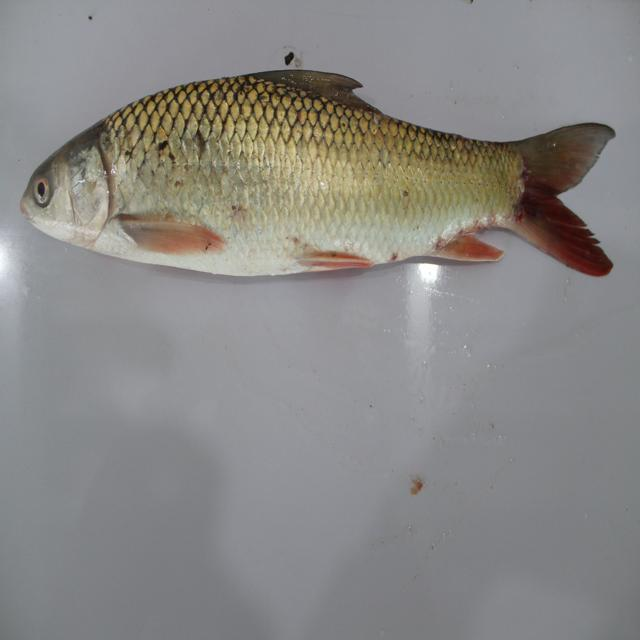Mori: (20, 49, 623, 292)
